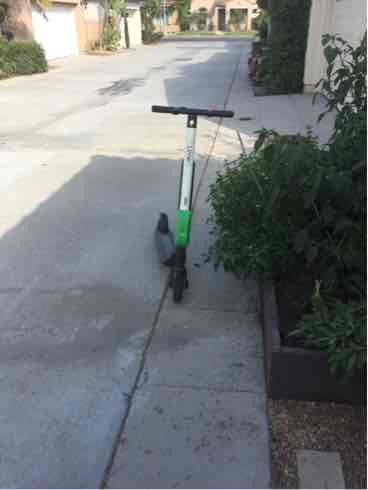scooter: (149, 99, 237, 308)
